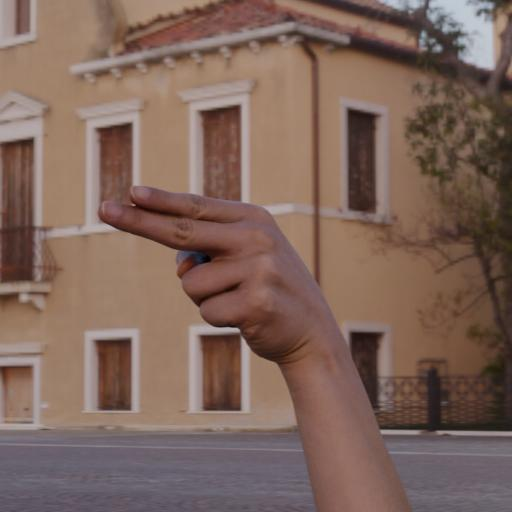H: (98, 182, 345, 366)
